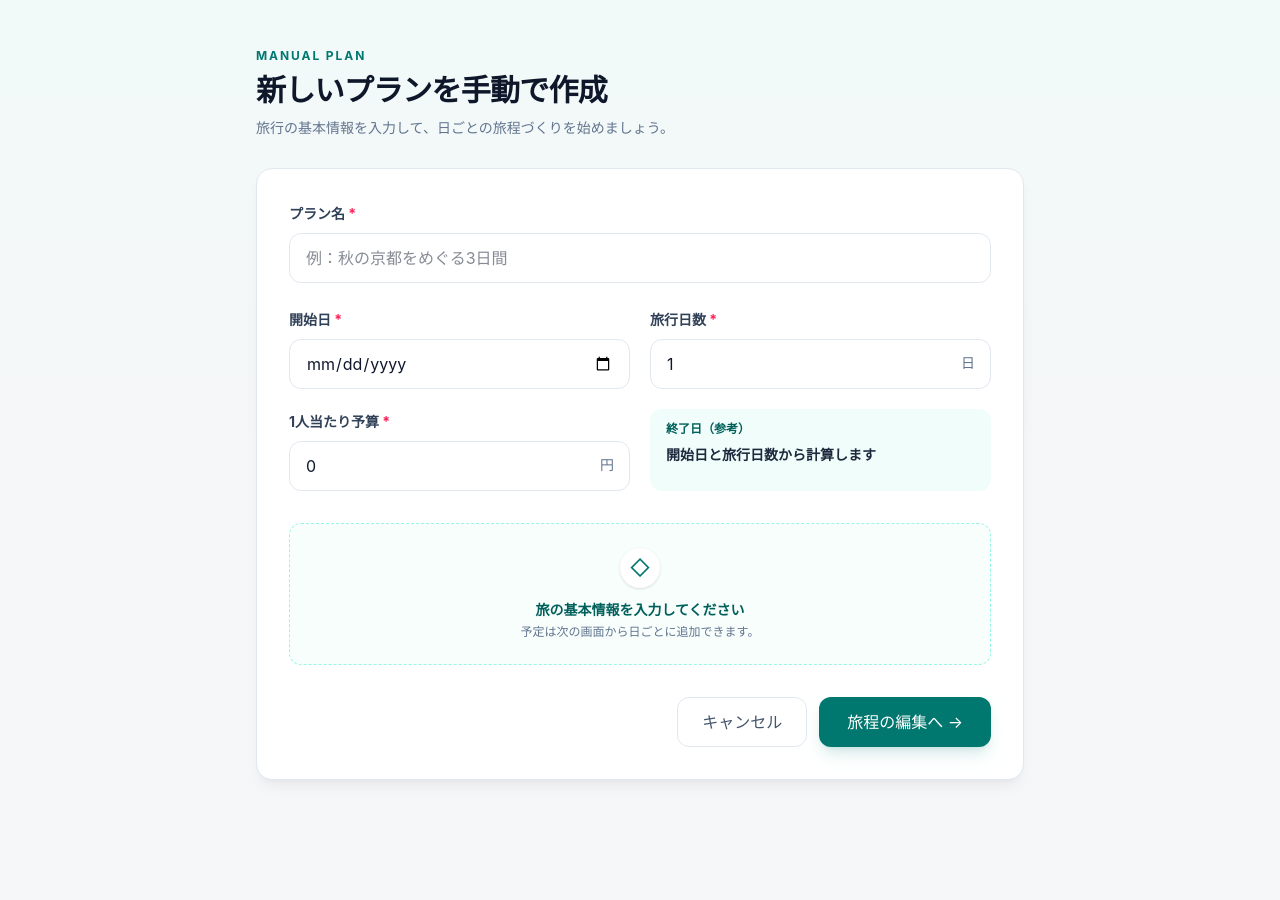
旅行プランDraftフロー › 日数分の連番Dayを作り、APIを呼ばず編集画面へ遷移する
Step 1. Type "瀬戸内の旅" into the field labelled "プラン名 *" → (640, 258), box [289, 233, 991, 283]
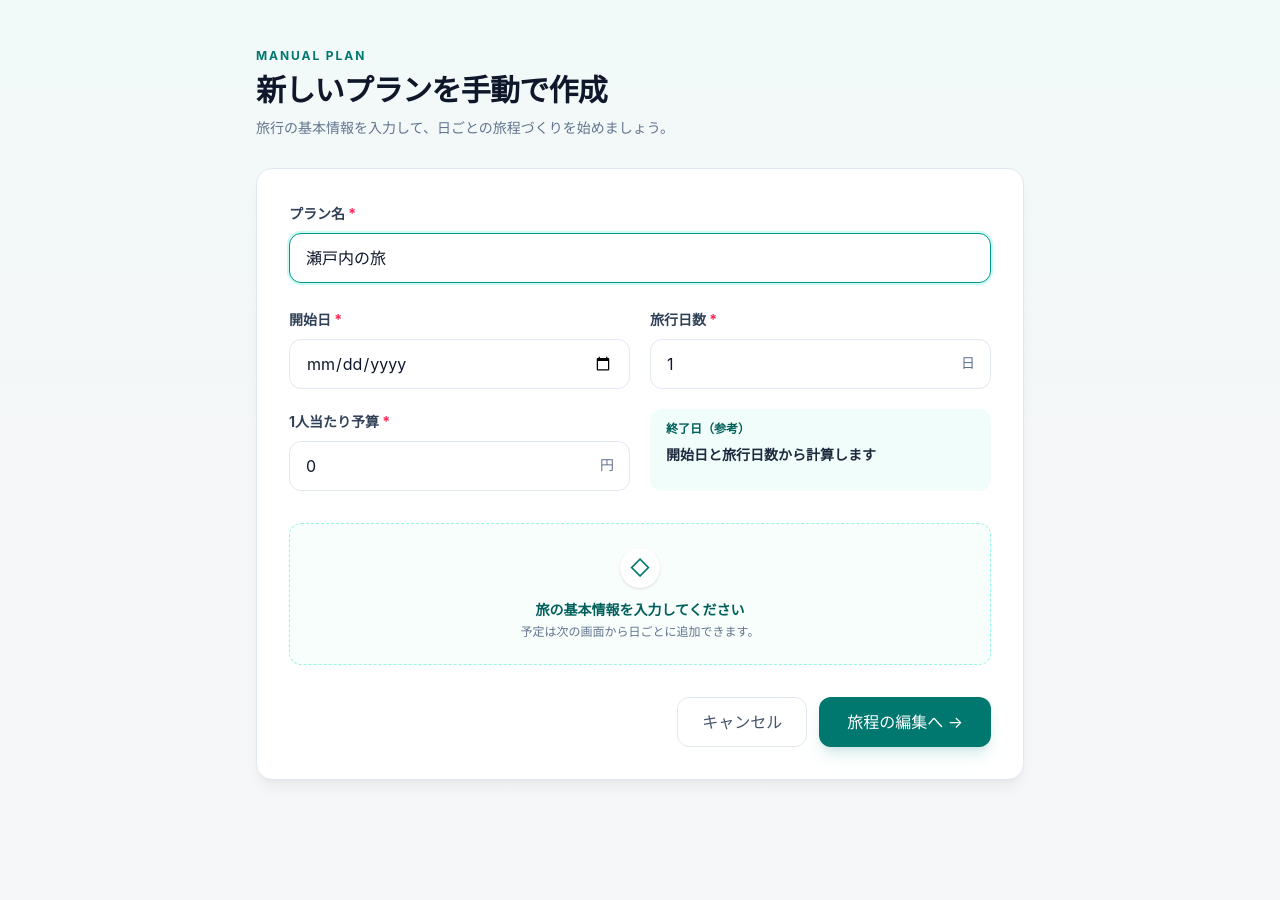
Step 2. Type "2026-10-10" into the date field labelled "開始日 *" → (460, 364), box [289, 339, 630, 389]
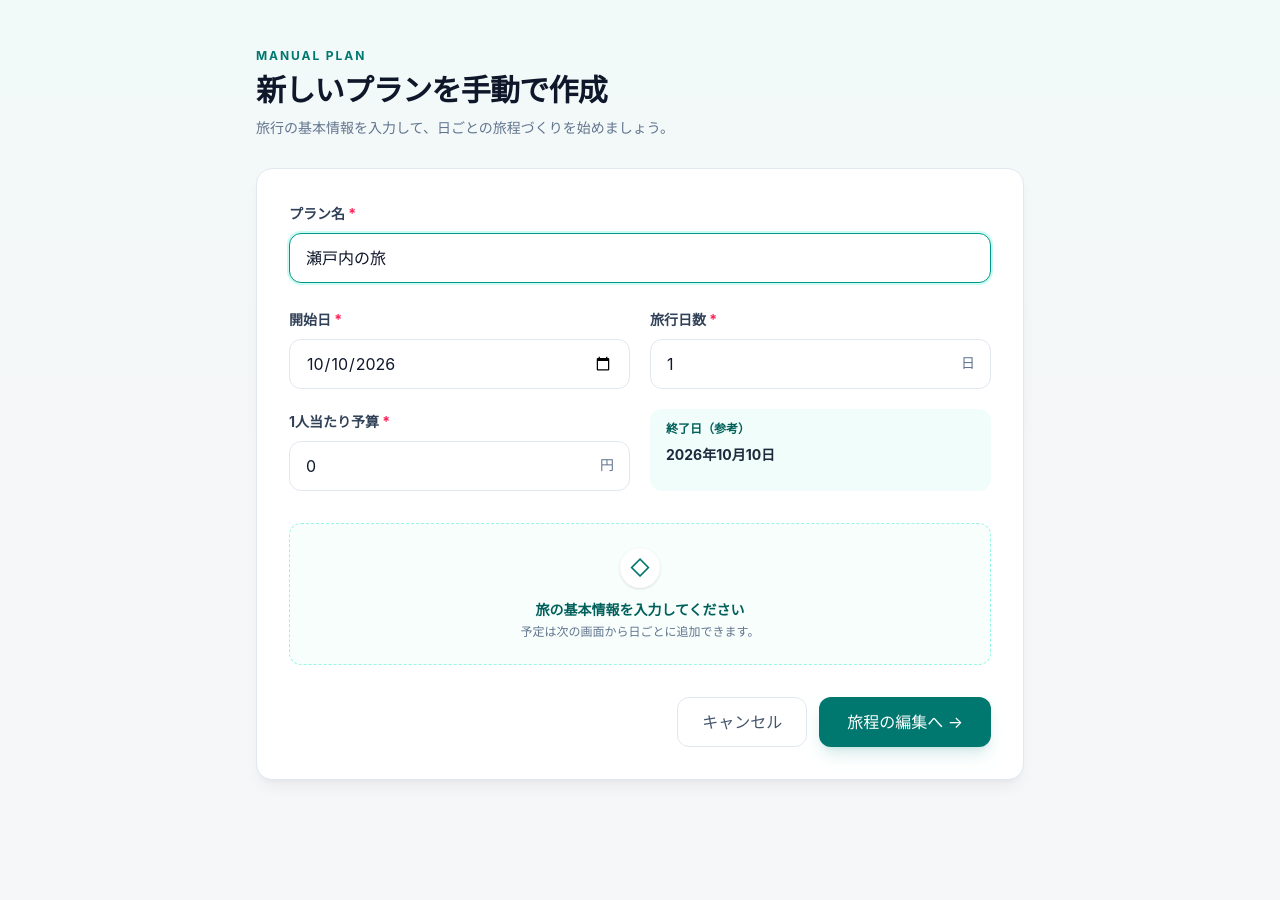
Step 3. Replace the text in the number field labelled "旅行日数 *" with "3" → (820, 364), box [650, 339, 991, 389]
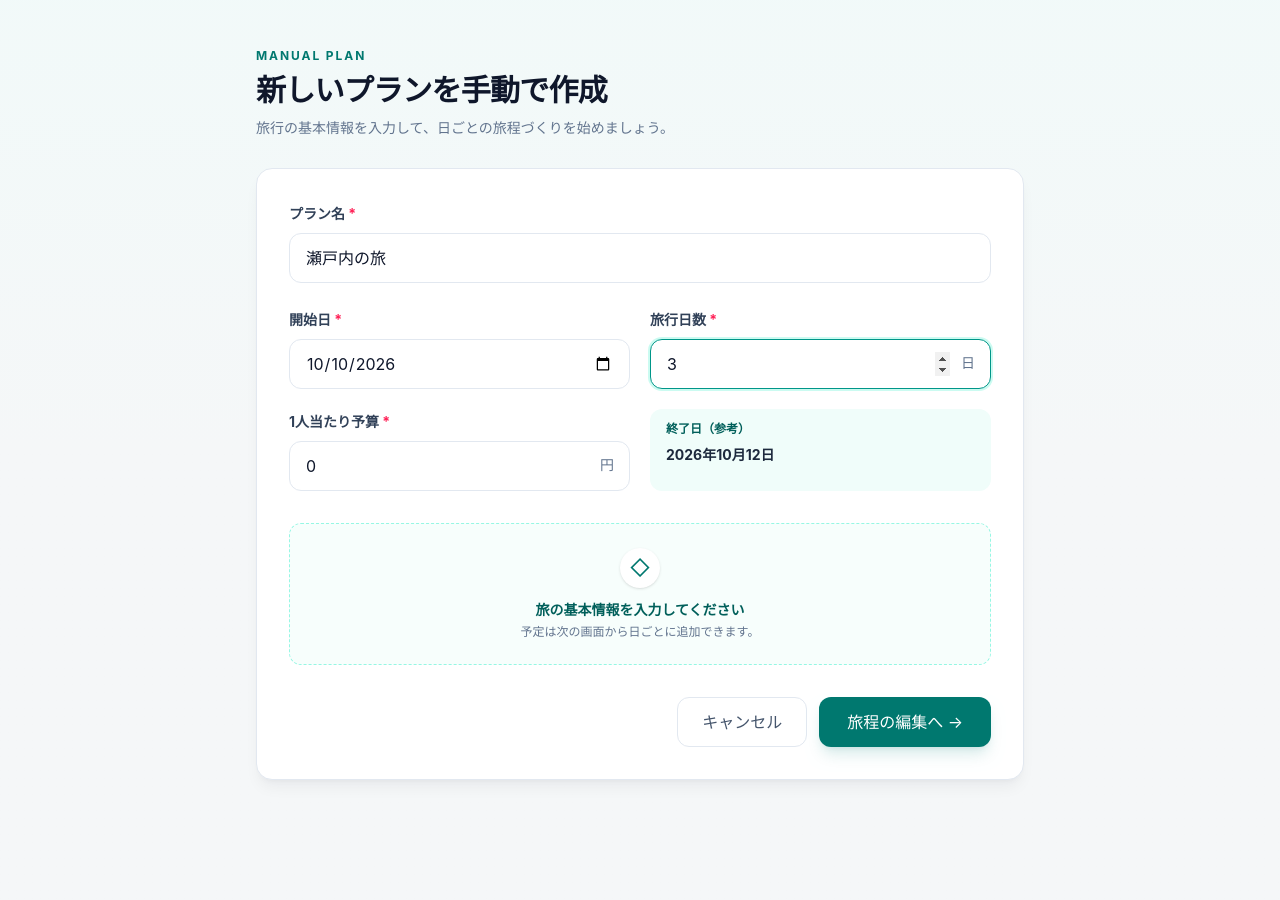
Step 4. Replace the text in the number field labelled "1人当たり予算 *" with "120000" → (460, 466), box [289, 441, 630, 491]
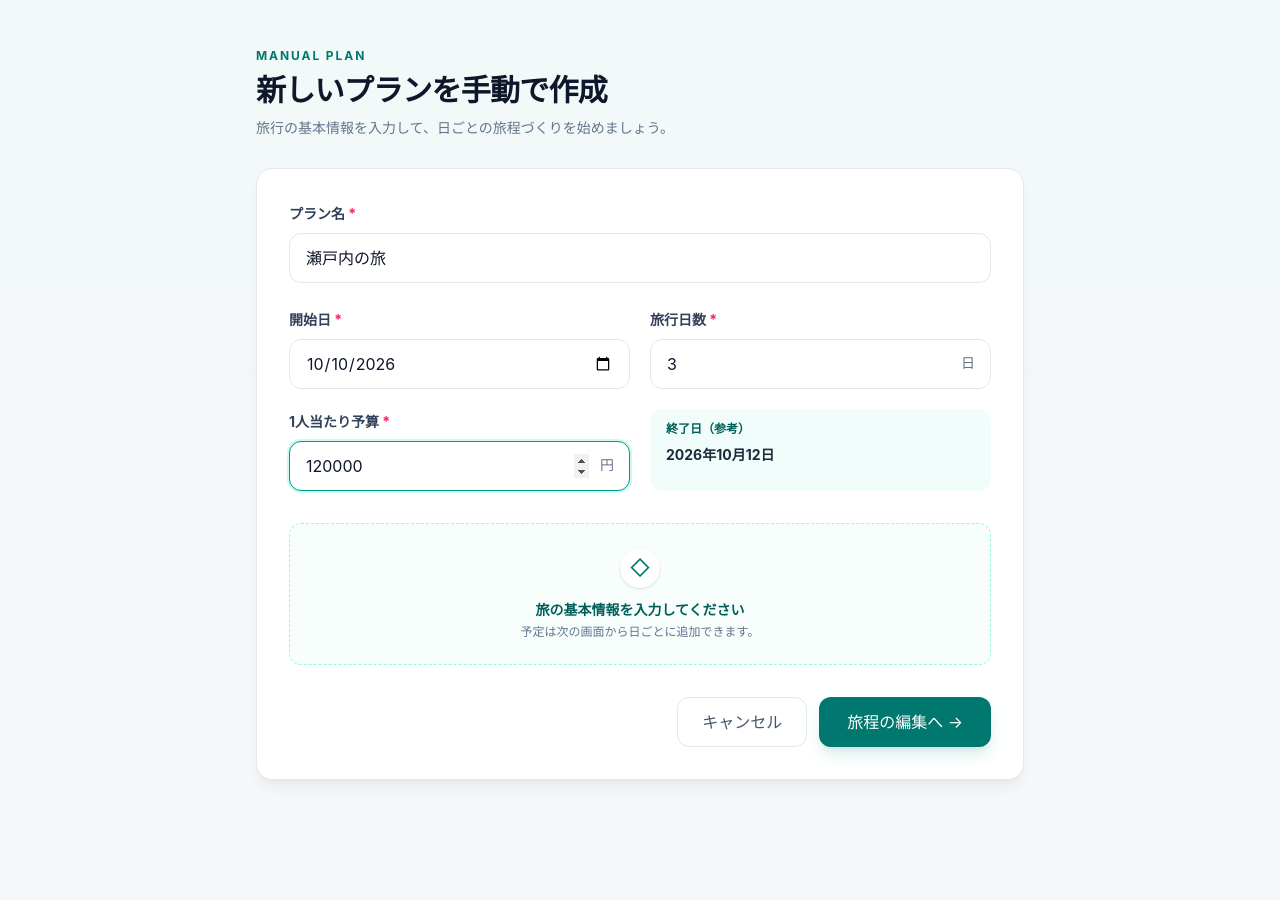
Step 5. Click the button "旅程の編集へ →" → (905, 722), box [819, 697, 991, 747]
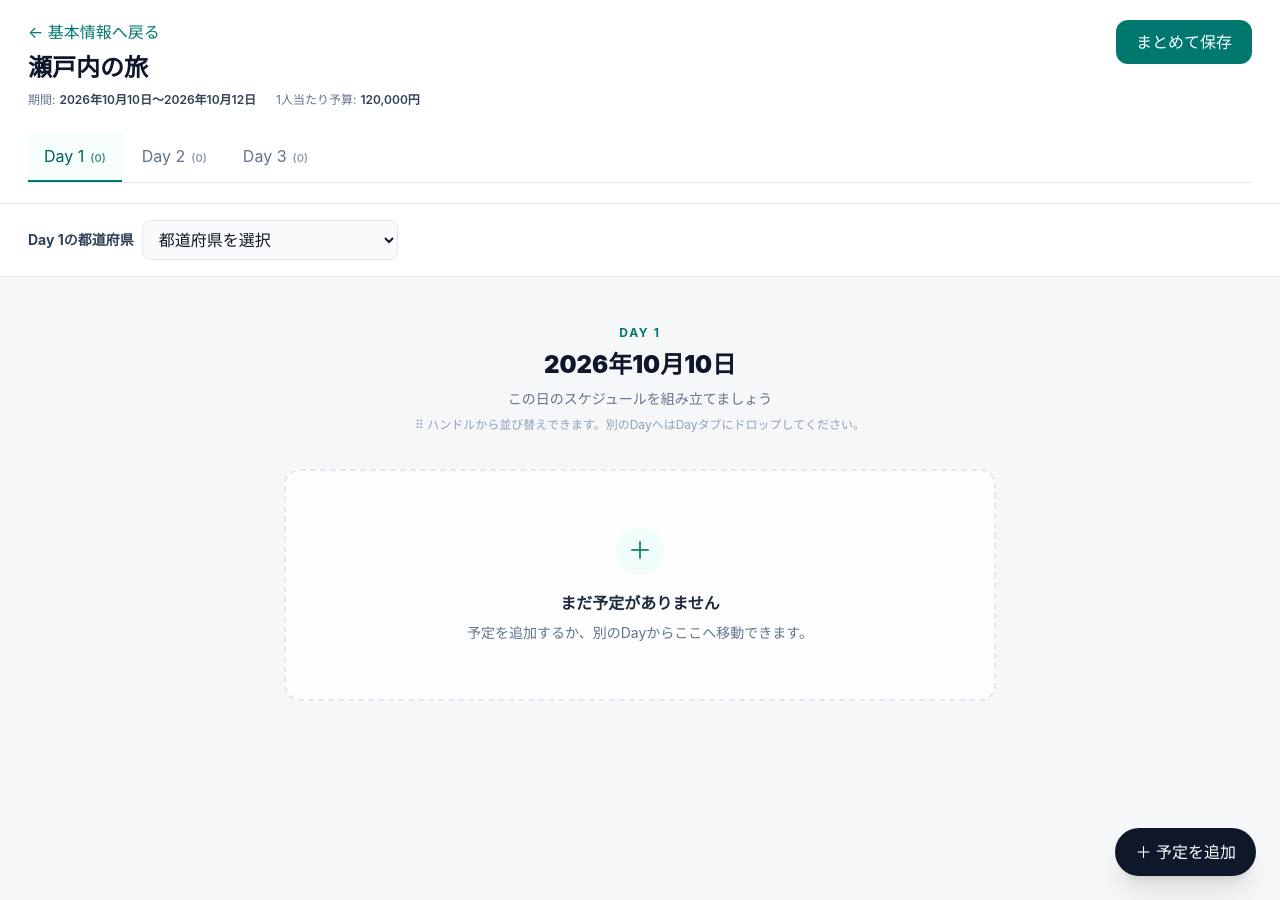
Expected: the heading "瀬戸内の旅" is shown, [28, 53, 148, 82]
Expected: the text "2026年10月10日〜2026年10月12日" is shown, [60, 92, 256, 108]
Expected: the number of tabs is 3, [28, 132, 122, 182]; [126, 132, 223, 182]; [227, 132, 324, 182]
